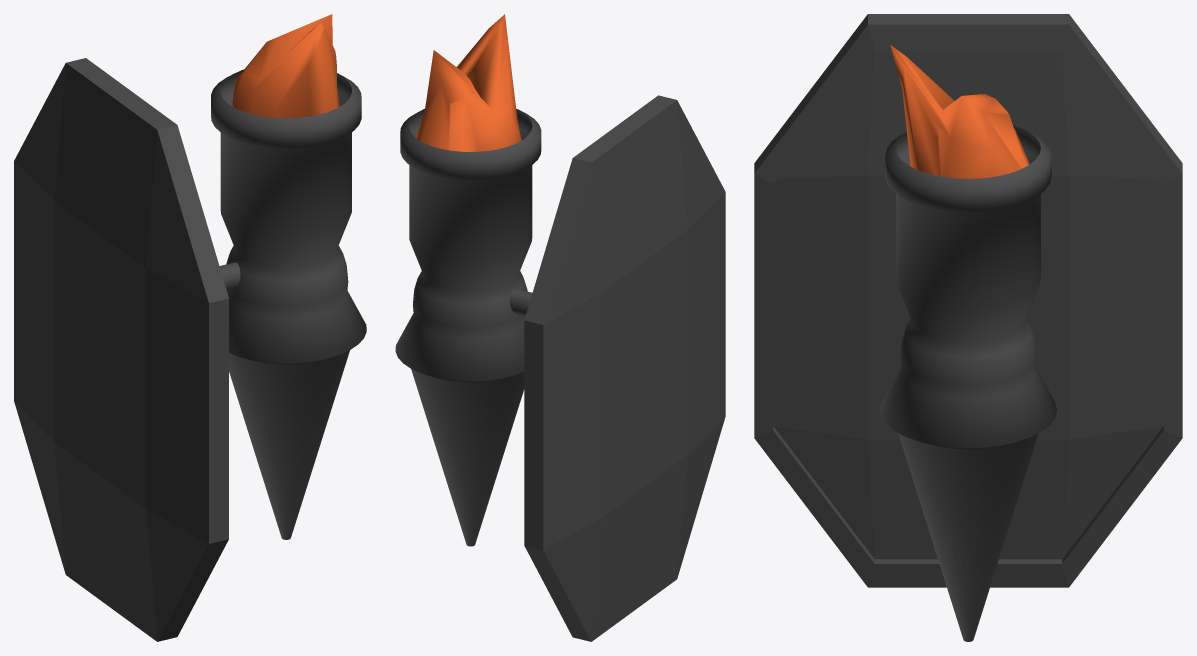
Rendered from wallTorch.fbx.
3 views of the same model, side by side, from view 1: azimuth 30°, elevation 25°; view 2: azimuth 150°, elevation 25°; view 3: azimuth 270°, elevation 25° (orthographic). The views are drawn at different scales.
Parts seen in each view (by area): view 1: Cube, Sphere, Icosphere; view 2: Cube, Sphere, Icosphere, Cylinder; view 3: Cube, Sphere, Icosphere.
Boxes of the visible parts, bbox=[...] form: Cube: bbox=[14, 58, 228, 641]; Sphere: bbox=[211, 69, 366, 539]; Icosphere: bbox=[232, 14, 339, 118]; Cube: bbox=[524, 95, 725, 641]; Sphere: bbox=[395, 108, 541, 546]; Icosphere: bbox=[415, 14, 521, 151]; Cylinder: bbox=[510, 289, 532, 316]; Cube: bbox=[754, 14, 1182, 587]; Sphere: bbox=[880, 124, 1056, 641]; Icosphere: bbox=[890, 45, 1029, 178].
Bounding box in the file's own units: 115 × 244 × 151.
